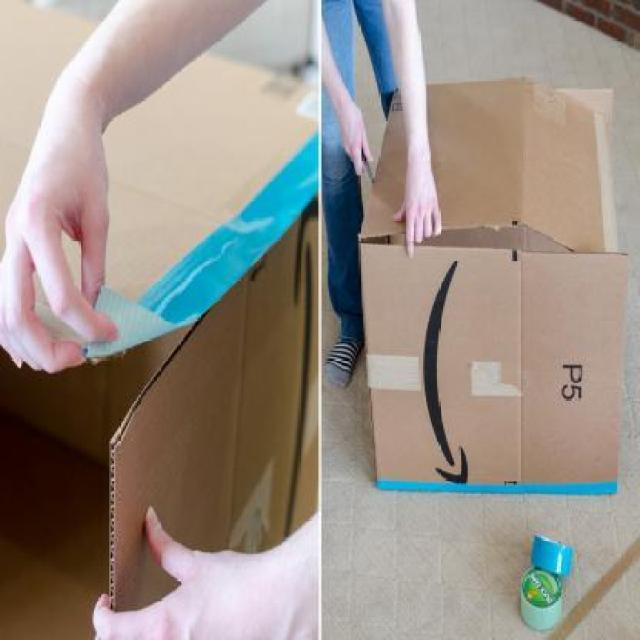box: (357, 84, 622, 498)
